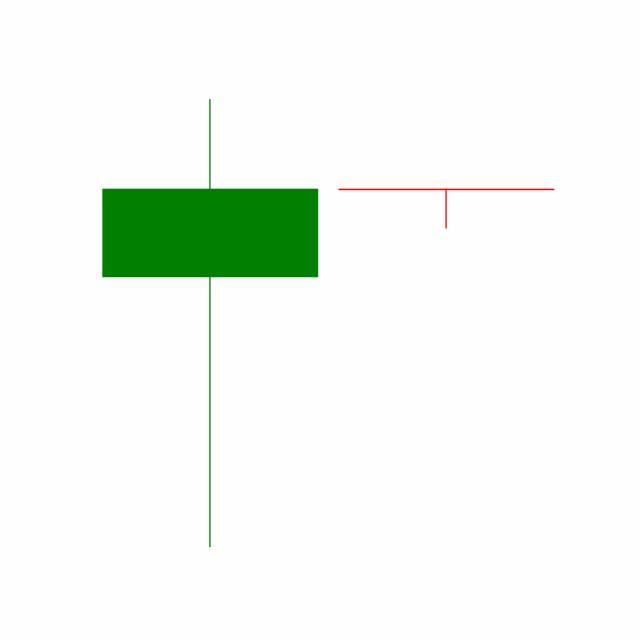Dragonfly Doji: (328, 189, 566, 230)
